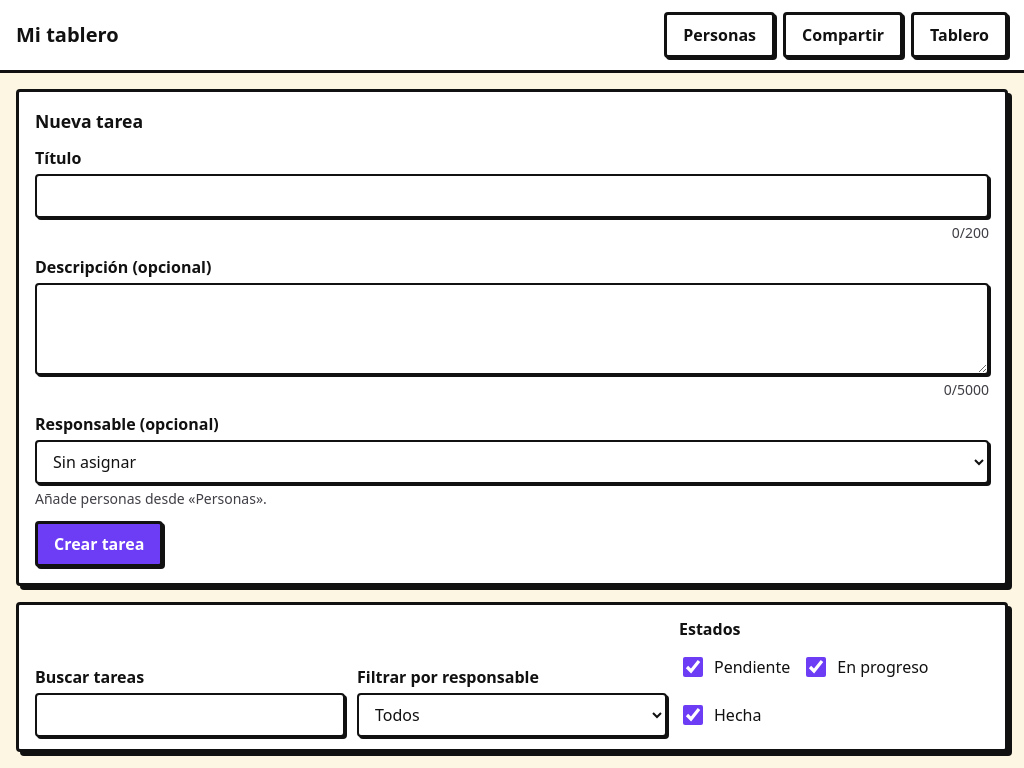
Test: gestionar el tablero desde la cabecera › cambiar el nombre (US3, FR-114) › si el tablero ya no existe, muestra "Enlace no válido"
The image size is (1024, 768).
Expected: the heading "Mi tablero" is shown, [16, 20, 119, 50]
Step 1. Click the button "Tablero" → coordinates (960, 35), box [911, 12, 1008, 58]
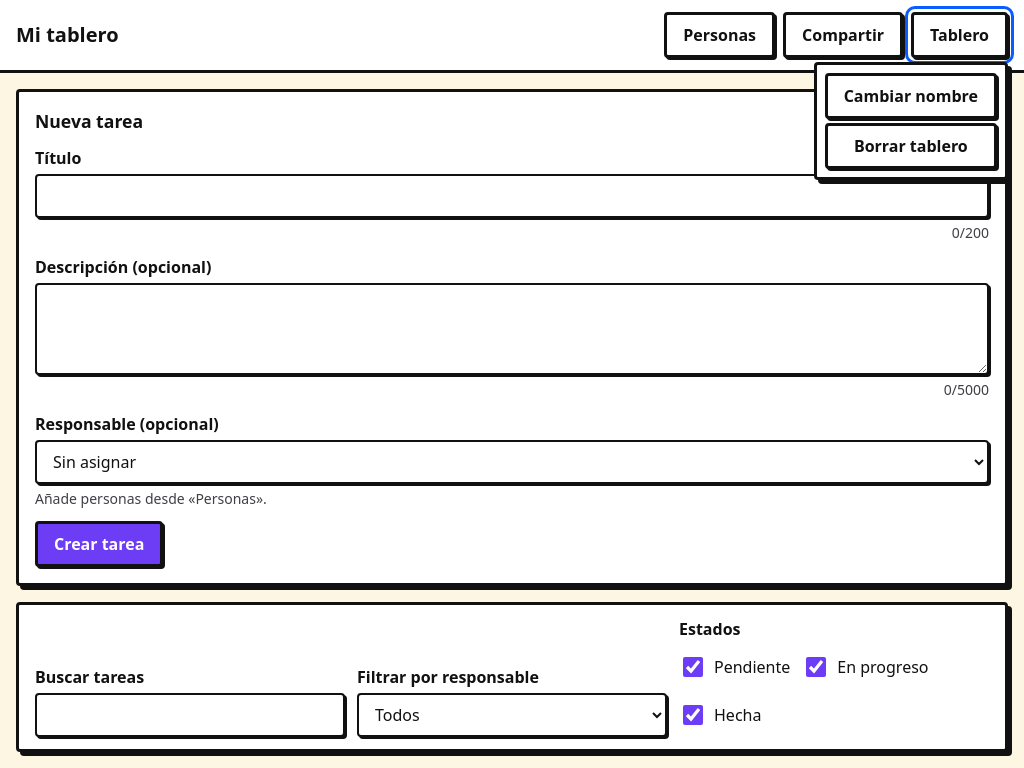
Step 2. Click the button "Cambiar nombre" → coordinates (911, 96), box [825, 73, 997, 119]
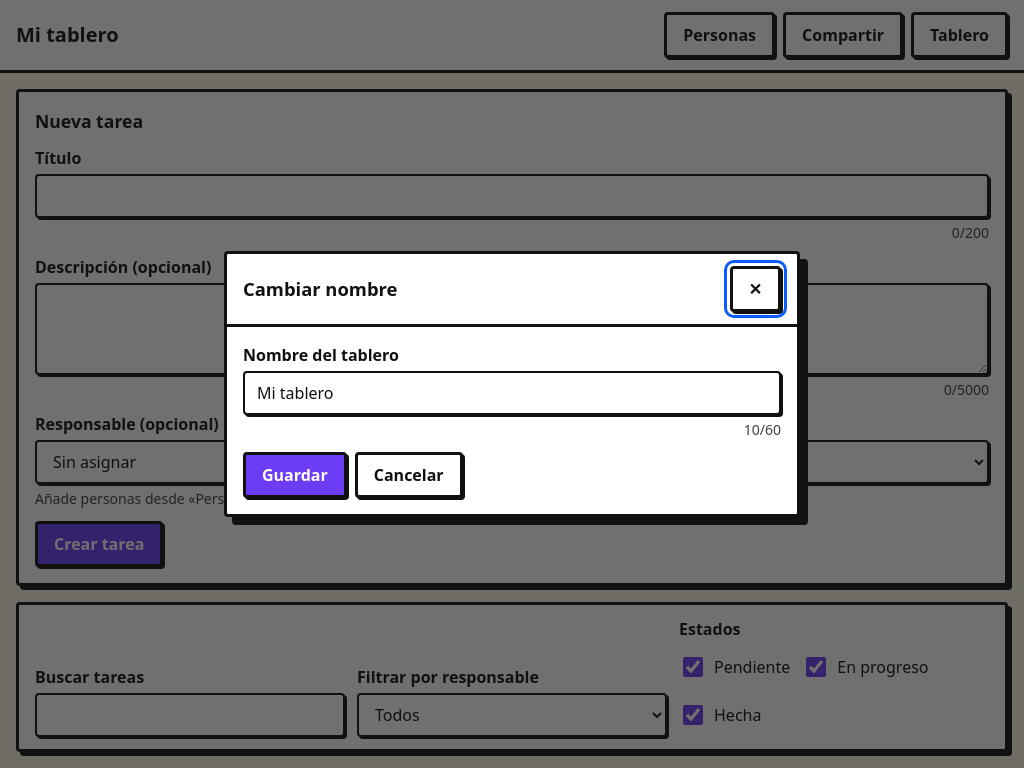
Step 3. Click the button "Guardar" → coordinates (295, 475), box [243, 452, 347, 498]
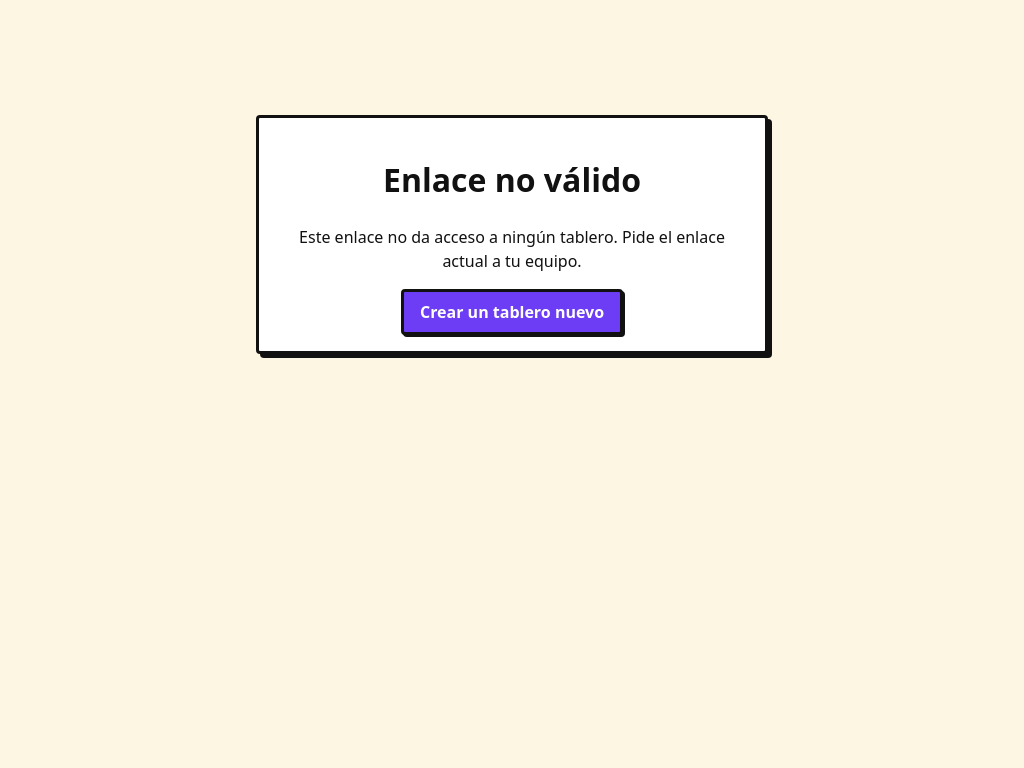
Now the heading "Enlace no válido" is shown, box [383, 158, 641, 201]
